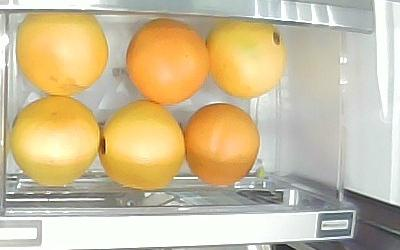grapefruit: (11, 96, 100, 187), (16, 13, 109, 97), (99, 100, 186, 189), (125, 18, 211, 105), (206, 19, 287, 99), (184, 104, 260, 186)
